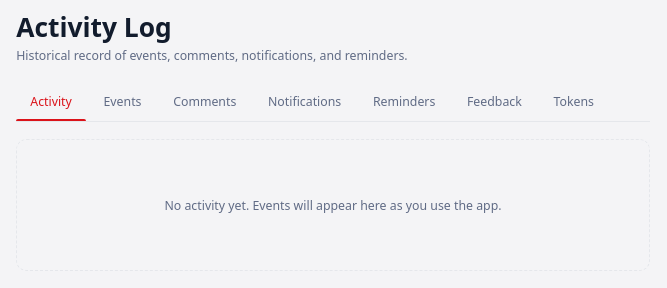
Test: LogsPage › Feedback tab shows feedback items
The width and height of the screenshot is (667, 288).
Click the button "Feedback" at point(494, 103), box [453,86,536,121]
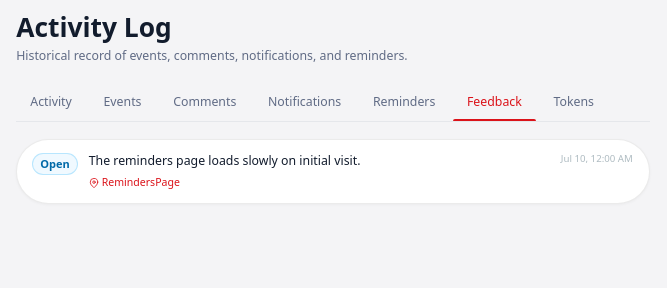
Now the text "The reminders page loads slowly on initial visit." is shown, box [89,152,360,169]
